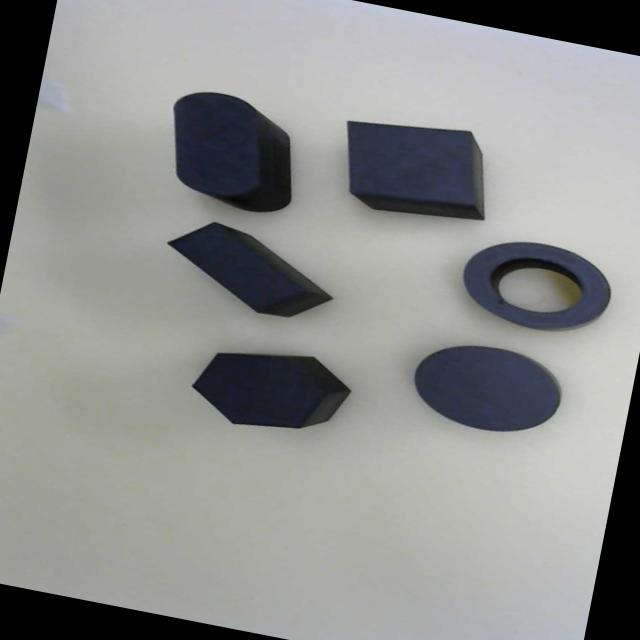circle: (410, 337, 567, 439)
hexagon: (187, 352, 321, 429)
oval: (173, 87, 261, 202)
rectangle: (165, 221, 300, 313)
ring: (455, 231, 616, 339)
square: (344, 119, 476, 206)
